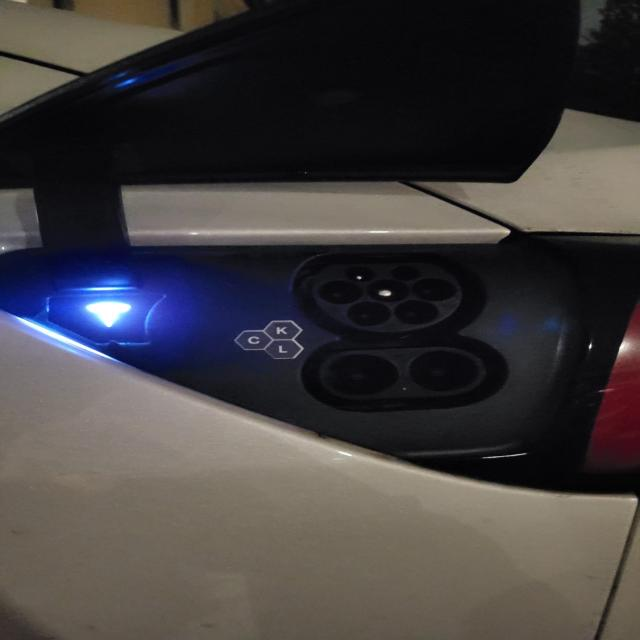inlet: (313, 263, 462, 332)
inlet-above-left: (345, 266, 375, 282)
inlet-above-right: (390, 264, 422, 280)
inlet-below-left: (347, 301, 391, 326)
inlet-below-right: (394, 300, 438, 324)
inlet-circle: (367, 279, 410, 302)
inlet-circle-left: (318, 280, 363, 304)
inlet-circle-right: (412, 278, 456, 301)
inlet-minus: (408, 351, 478, 392)
inlet-plus: (326, 354, 399, 395)
